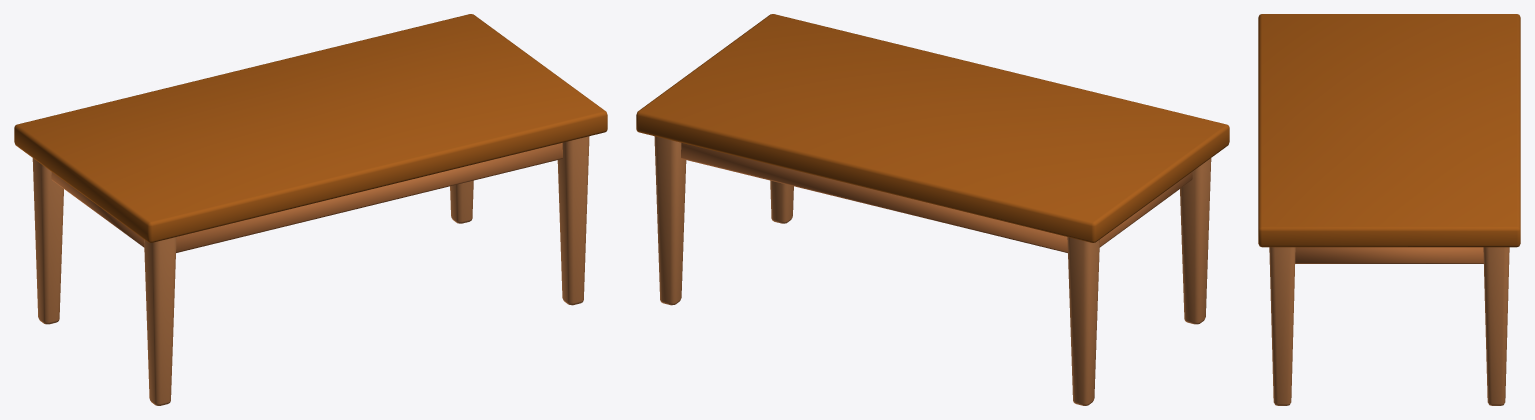
Rendered from LongTable.glb.
3 views of the same model, side by side, from view 1: azimuth 30°, elevation 25°; view 2: azimuth 150°, elevation 25°; view 3: azimuth 270°, elevation 25° (orthographic). The views are drawn at different scales.
Parts seen in each view (by area): view 1: LongTable; view 2: LongTable; view 3: LongTable.
Boxes of the visible parts, x1,y1,x2,y2 form: LongTable: [14, 14, 607, 405]; LongTable: [636, 14, 1229, 405]; LongTable: [1258, 14, 1520, 405].
Bounding box in the file's own units: 1.65 × 0.668 × 0.85.
Materials: 1 (1 with a texture image).
